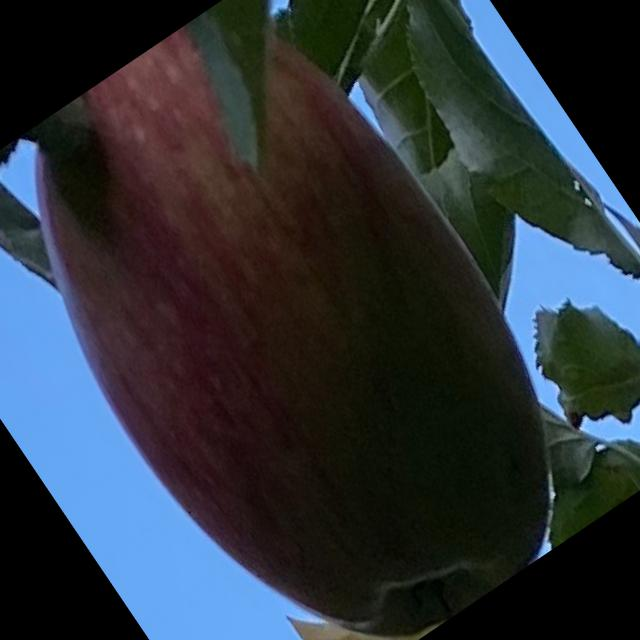Apples: (0, 0, 636, 639)
